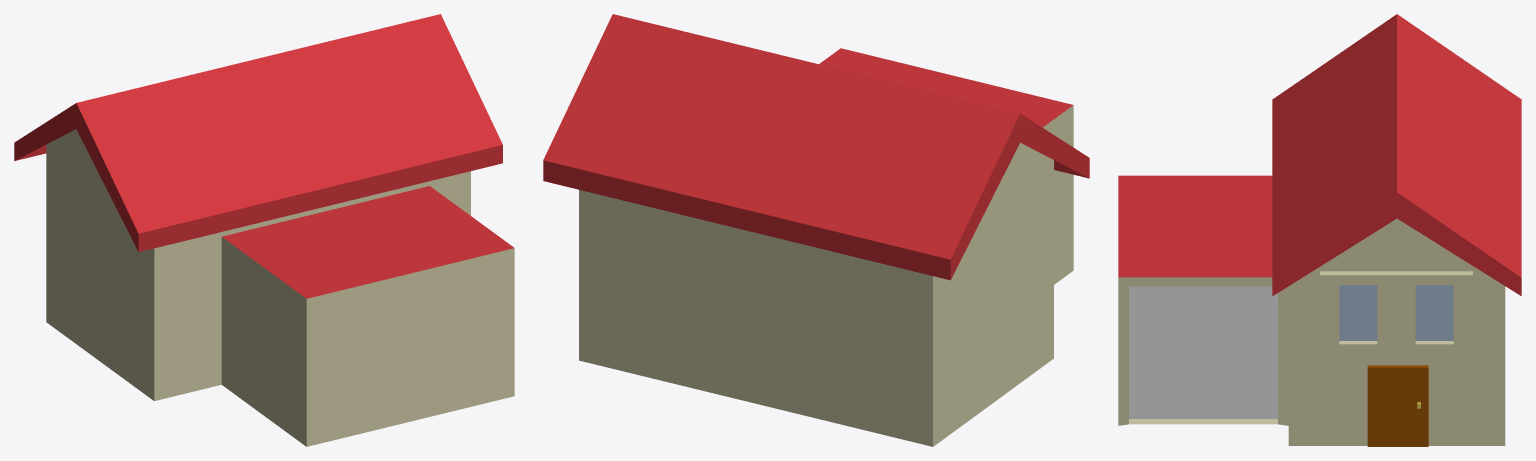
File: Maison.fbx
3 renders of one model, left to right at view 1: azimuth 30°, elevation 25°; view 2: azimuth 150°, elevation 25°; view 3: azimuth 270°, elevation 25°, orthographic. The views are drawn at different scales.
Visible parts, largest first — view 1: Cube.001; view 2: Cube.001; view 3: Cube.001.
Part boxes in pixels (bbox=[...]): Cube.001: bbox=[14, 14, 514, 446]; Cube.001: bbox=[543, 14, 1089, 446]; Cube.001: bbox=[1118, 14, 1521, 446].
Bounding box in the file's own units: 966 × 670 × 924.
